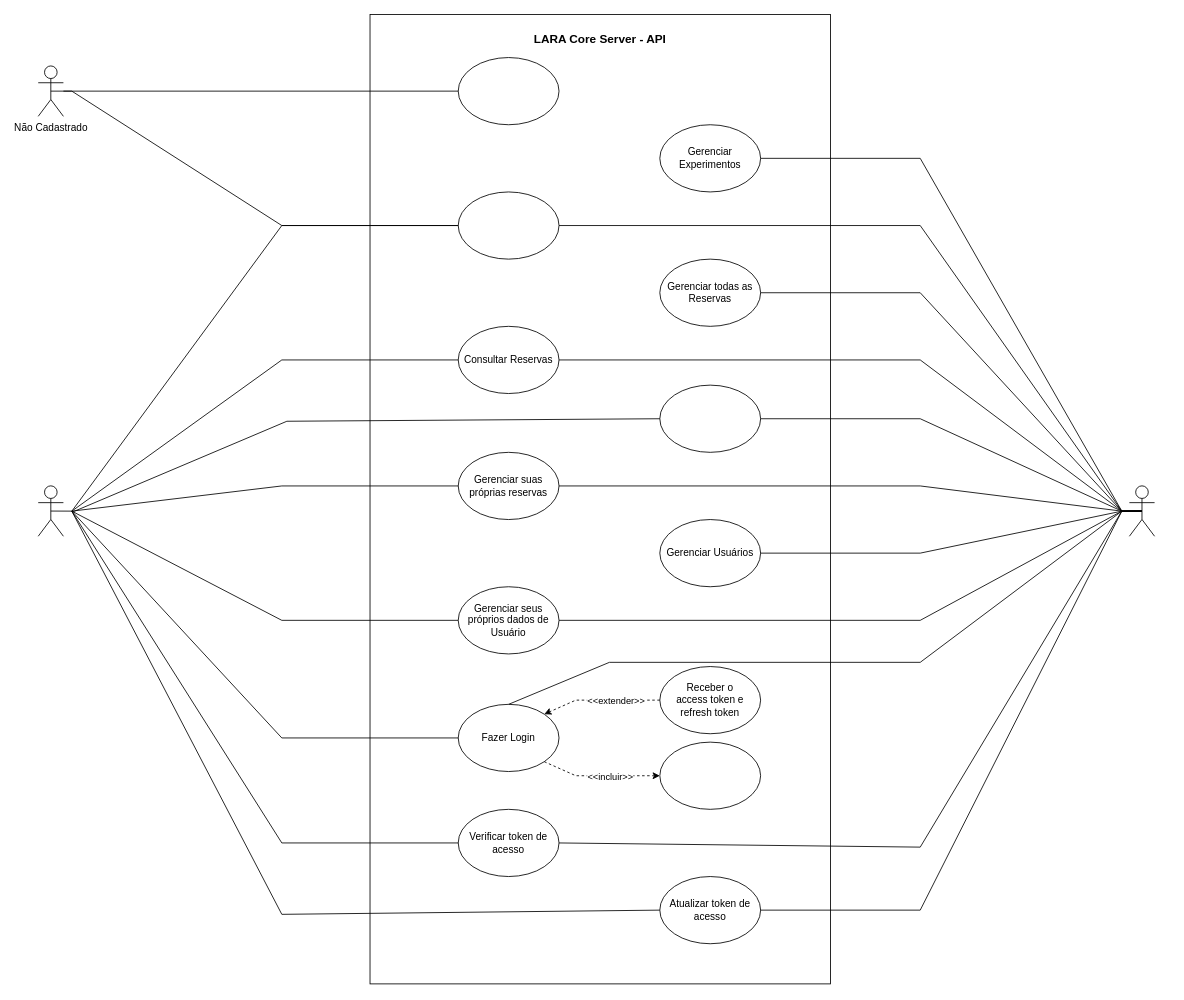
This 1184x1000 diagram has some shape labels left out. The centre of each missing label's shape, as x and y in pixels:
"Cadastrar" belongs at point (508, 91).
"Consultar Experimentos" belongs at point (508, 225).
"Consultar Usuários" belongs at point (710, 418).
"Professores /Admin" belongs at point (1142, 510).
"Usuário" belongs at point (50, 510).
"Verificar Senha" belongs at point (710, 775).
